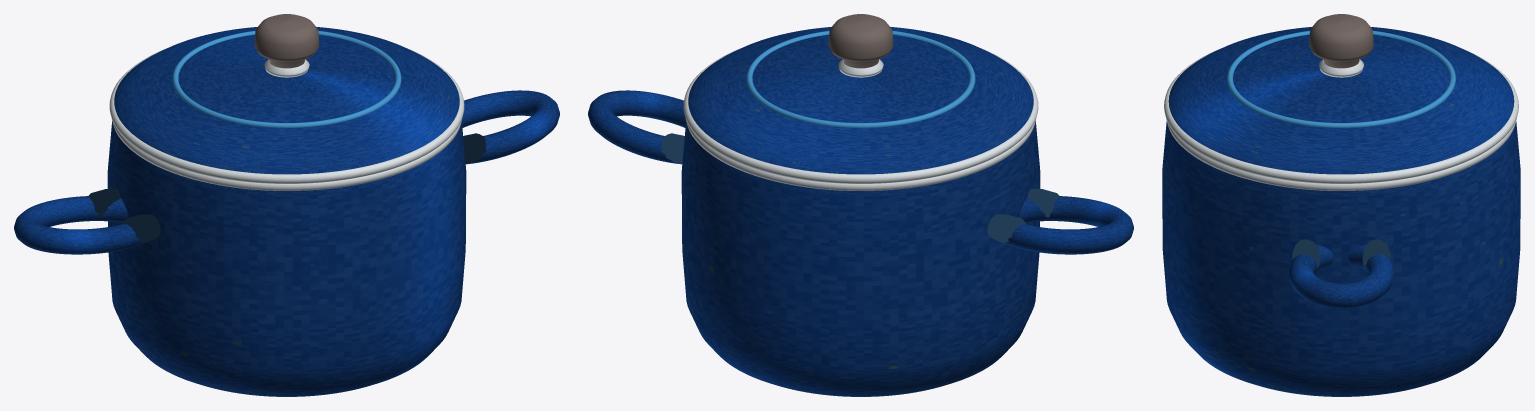
Rendered from serpa_plava.glb.
The picture shows the model from 3 angles, left to right: view 1: azimuth 30°, elevation 25°; view 2: azimuth 150°, elevation 25°; view 3: azimuth 270°, elevation 25°; orthographic projection.
Parts seen in each view (by area): view 1: Telo_plavi_emajl, Poklopac_plava_kupola, Drska_leva_ovalna, Drska_desna_ovalna, Poklopac_srebrna_ivica, Drska_poklopca_tamno_dugme, Obod_srebrni_metal, Poklopac_koncentricni_krug, Nosac_drske_leva_0.135, Nosac_drske_desna_0.135, Nosac_drske_leva_-0.135, Podnozje_dugmeta; view 2: Telo_plavi_emajl, Poklopac_plava_kupola, Drska_leva_ovalna, Drska_desna_ovalna, Poklopac_srebrna_ivica, Drska_poklopca_tamno_dugme, Obod_srebrni_metal, Poklopac_koncentricni_krug, Nosac_drske_leva_-0.135, Nosac_drske_desna_-0.135, Nosac_drske_leva_0.135, Podnozje_dugmeta; view 3: Telo_plavi_emajl, Poklopac_plava_kupola, Poklopac_srebrna_ivica, Drska_desna_ovalna, Drska_poklopca_tamno_dugme, Obod_srebrni_metal, Poklopac_koncentricni_krug, Podnozje_dugmeta, Nosac_drske_desna_-0.135, Nosac_drske_desna_0.135.
Part boxes in pixels (bbox=[...]): Telo_plavi_emajl: bbox=[107, 121, 466, 396]; Poklopac_plava_kupola: bbox=[114, 27, 459, 174]; Drska_leva_ovalna: bbox=[14, 196, 143, 254]; Drska_desna_ovalna: bbox=[462, 90, 559, 164]; Poklopac_srebrna_ivica: bbox=[109, 49, 464, 183]; Drska_poklopca_tamno_dugme: bbox=[254, 14, 319, 68]; Obod_srebrni_metal: bbox=[111, 118, 462, 190]; Poklopac_koncentricni_krug: bbox=[172, 30, 401, 127]; Nosac_drske_leva_0.135: bbox=[122, 214, 160, 243]; Nosac_drske_desna_0.135: bbox=[463, 133, 486, 163]; Nosac_drske_leva_-0.135: bbox=[88, 188, 120, 217]; Podnozje_dugmeta: bbox=[264, 59, 309, 77]; Telo_plavi_emajl: bbox=[681, 121, 1040, 396]; Poklopac_plava_kupola: bbox=[688, 27, 1033, 174]; Drska_leva_ovalna: bbox=[1004, 196, 1133, 254]; Drska_desna_ovalna: bbox=[588, 90, 685, 164]; Poklopac_srebrna_ivica: bbox=[683, 49, 1038, 183]; Drska_poklopca_tamno_dugme: bbox=[828, 14, 893, 68]; Obod_srebrni_metal: bbox=[685, 118, 1036, 190]; Poklopac_koncentricni_krug: bbox=[746, 30, 975, 127]; Nosac_drske_leva_-0.135: bbox=[987, 214, 1025, 243]; Nosac_drske_desna_-0.135: bbox=[661, 133, 684, 163]; Nosac_drske_leva_0.135: bbox=[1027, 188, 1059, 217]; Podnozje_dugmeta: bbox=[838, 59, 883, 77]; Telo_plavi_emajl: bbox=[1162, 121, 1520, 396]; Poklopac_plava_kupola: bbox=[1168, 27, 1514, 174]; Poklopac_srebrna_ivica: bbox=[1164, 48, 1518, 183]; Drska_desna_ovalna: bbox=[1288, 244, 1394, 308]; Drska_poklopca_tamno_dugme: bbox=[1309, 14, 1373, 68]; Obod_srebrni_metal: bbox=[1166, 119, 1516, 190]; Poklopac_koncentricni_krug: bbox=[1227, 30, 1455, 127]; Podnozje_dugmeta: bbox=[1319, 59, 1363, 77]; Nosac_drske_desna_-0.135: bbox=[1362, 239, 1390, 268]; Nosac_drske_desna_0.135: bbox=[1292, 239, 1320, 268].
Size of the model in its own units: 2.39 by 1.35 by 1.38.
6 materials, 1 textured.
